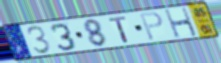3: (51, 22, 78, 52), (27, 25, 52, 54)
8: (83, 18, 109, 48)
H: (163, 6, 200, 40)
P: (138, 11, 165, 42)
T: (107, 15, 131, 44)
